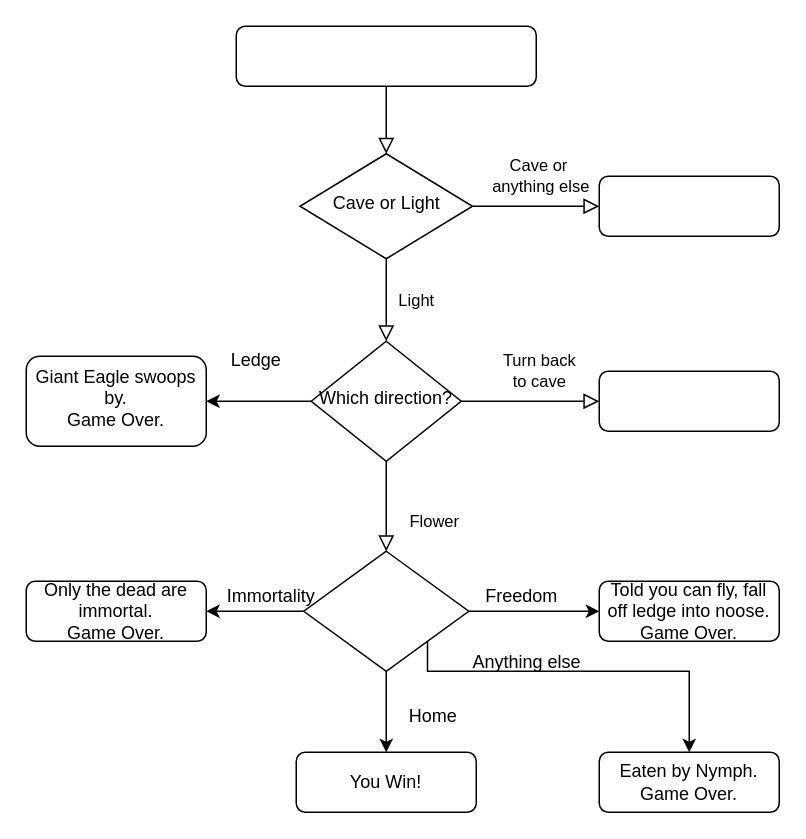
Image size: 806x839. Some labels were removed from this diagram. The shapes that lost their labels are listed below. From the top down, each one's centre as x and y in pixels, then its label:
[385,55]: You awaken in a mountainside cave. Your mission is to survive.
[688,205]: Attacked by Medusa. Game Over.
[688,400]: Attack by Medusa. Game Over.
[385,610]: Which wish?
